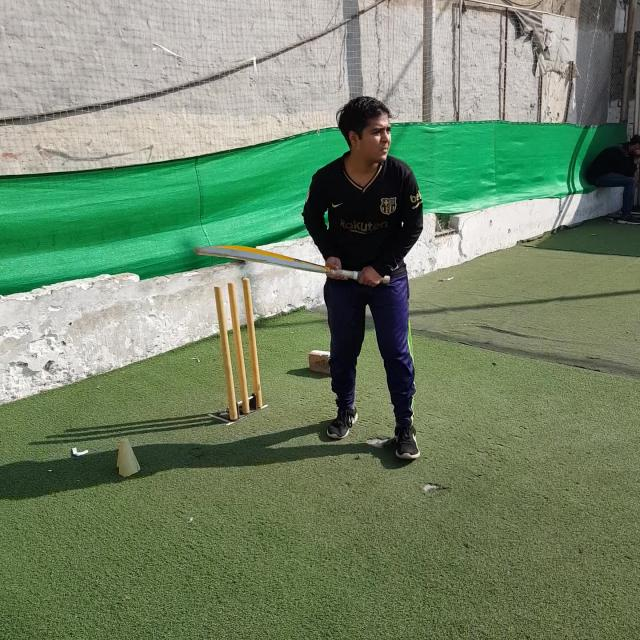bat: (197, 244, 390, 284)
